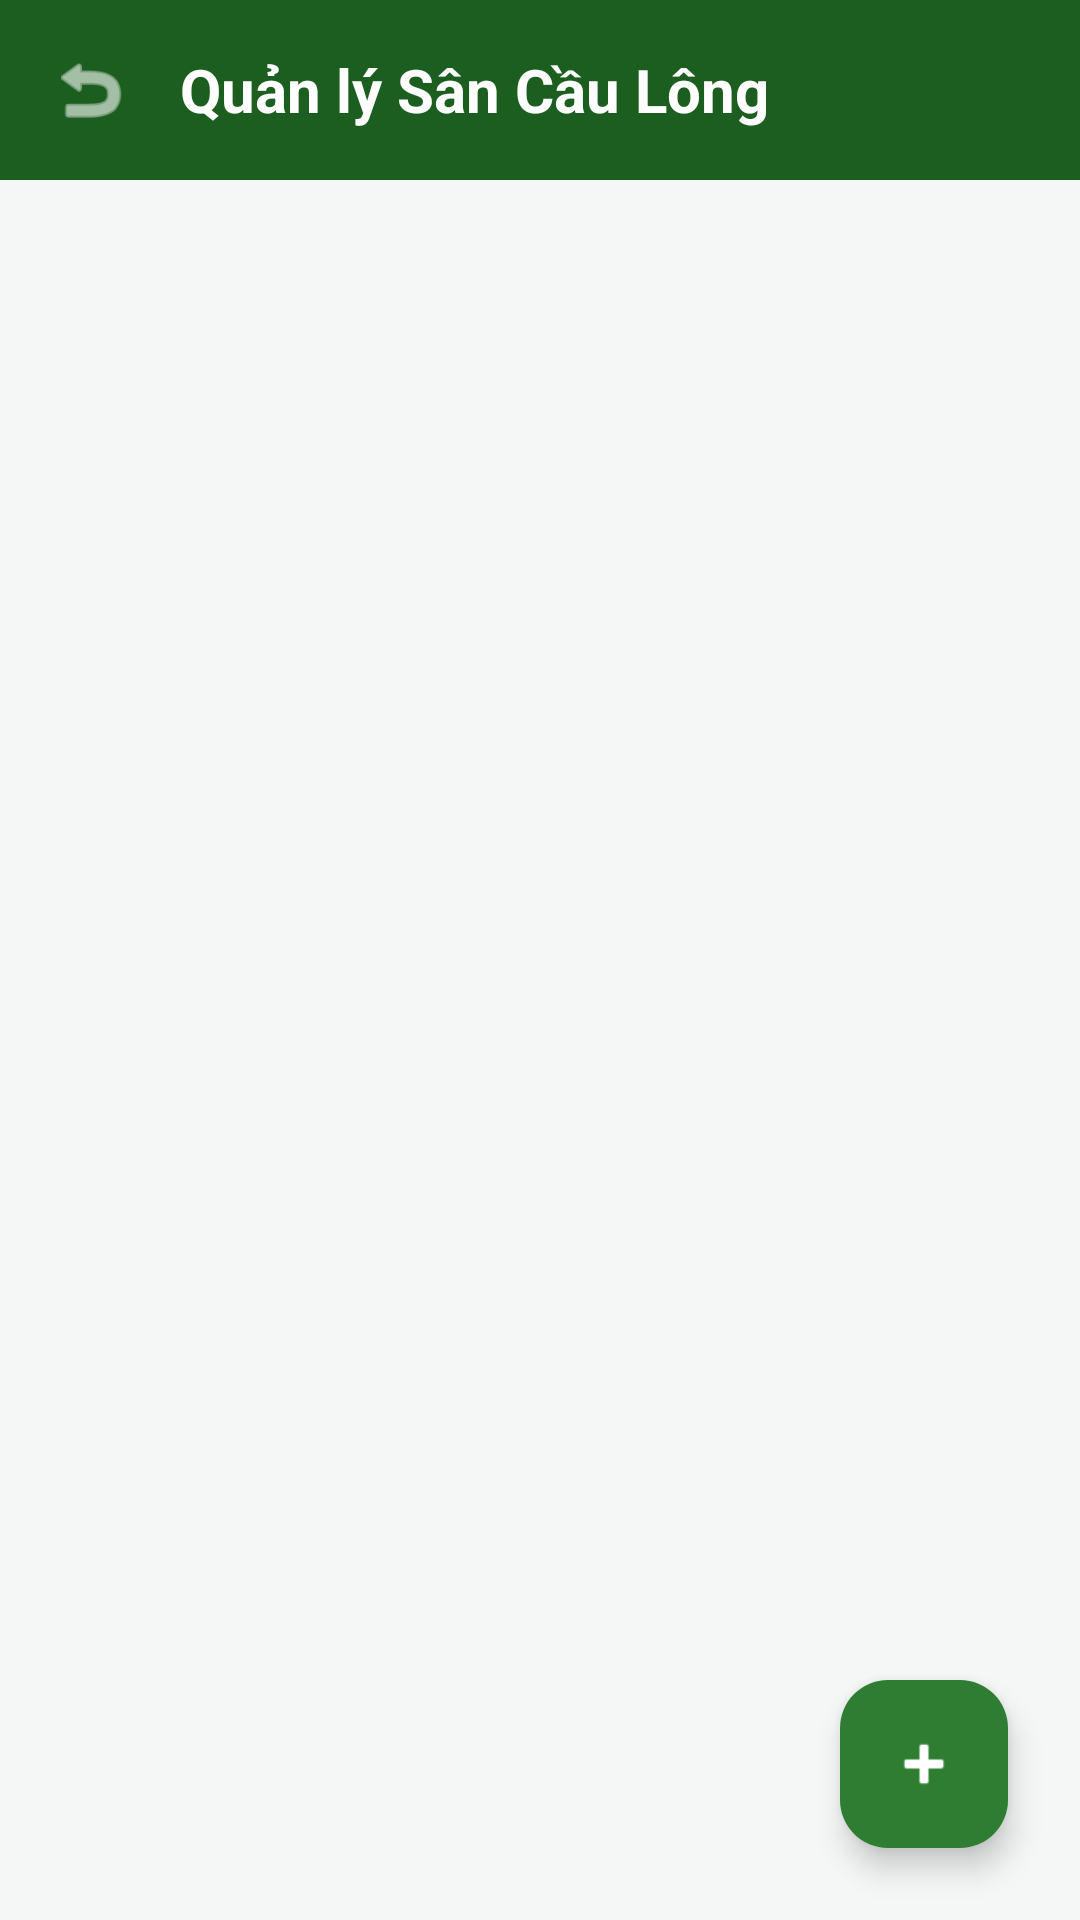

Screen size 1080w x 1920h. Icon name, then its box in pixels as (x1,y1,x2,y2):
add: (840,1680,1008,1848)
revert: (61,63,121,118)
